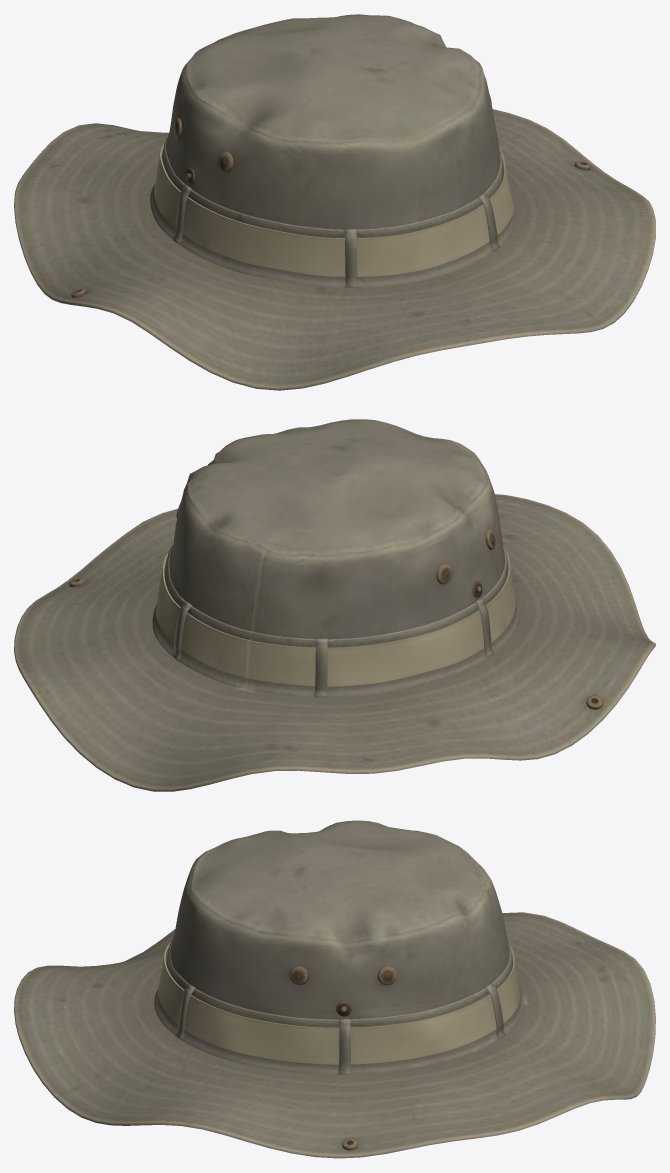
3 renders of one model, top to bottom at view 1: azimuth 30°, elevation 25°; view 2: azimuth 150°, elevation 25°; view 3: azimuth 270°, elevation 25°, orthographic. The views are drawn at different scales.
Visible parts, largest first — view 1: fishermans_hat; view 2: fishermans_hat; view 3: fishermans_hat.
Boxes of the visible parts, box(x1,y1,x2,y2) form: fishermans_hat: box(14, 14, 655, 390); fishermans_hat: box(14, 419, 655, 791); fishermans_hat: box(14, 820, 655, 1158).
Bounding box in the file's own units: 0.3236 × 0.1239 × 0.35.
Materials: 1 (1 with a texture image).
